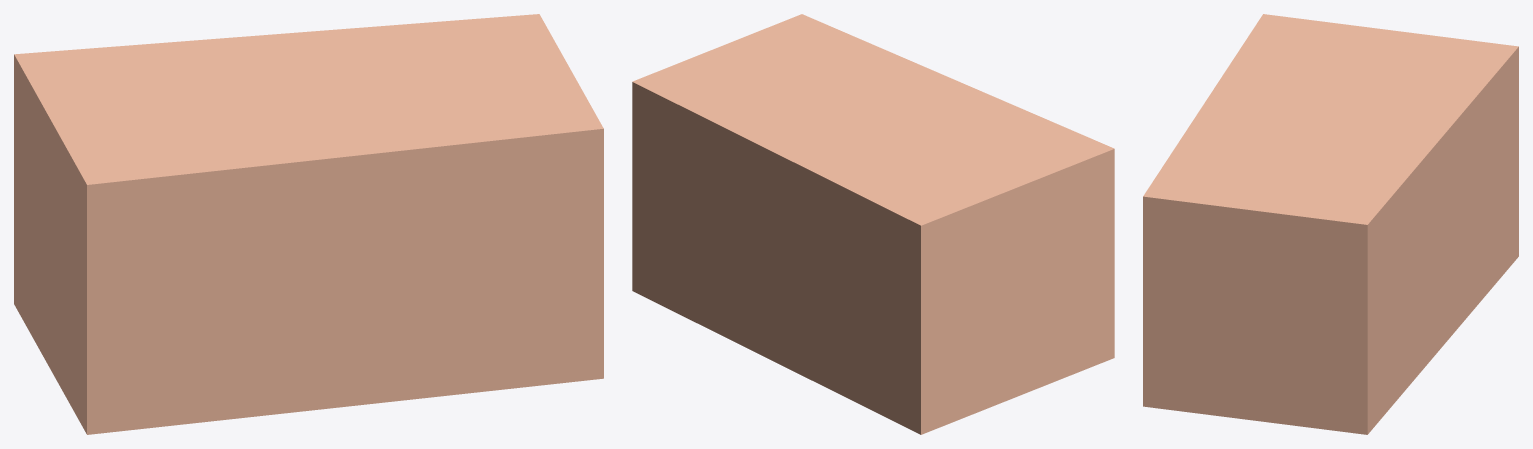
Rendered from Building_2.dae.
3 views of the same model, side by side, from view 1: azimuth 30°, elevation 25°; view 2: azimuth 150°, elevation 25°; view 3: azimuth 270°, elevation 25° (orthographic). The views are drawn at different scales.
Parts seen in each view (by area): view 1: Building_001; view 2: Building_001; view 3: Building_001.
Part boxes in pixels (<box>): Building_001: <box>14,14,603,434</box>; Building_001: <box>632,14,1114,434</box>; Building_001: <box>1143,14,1518,434</box>.
Size of the model in its own units: 5.15 by 3.88 by 2.39.
